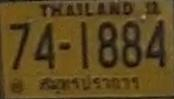1: (80, 21, 87, 68)
4: (144, 19, 165, 66), (33, 22, 54, 68)
7: (8, 22, 30, 69)
8: (120, 20, 140, 67), (97, 21, 117, 67)
SPK: (35, 72, 143, 95)
